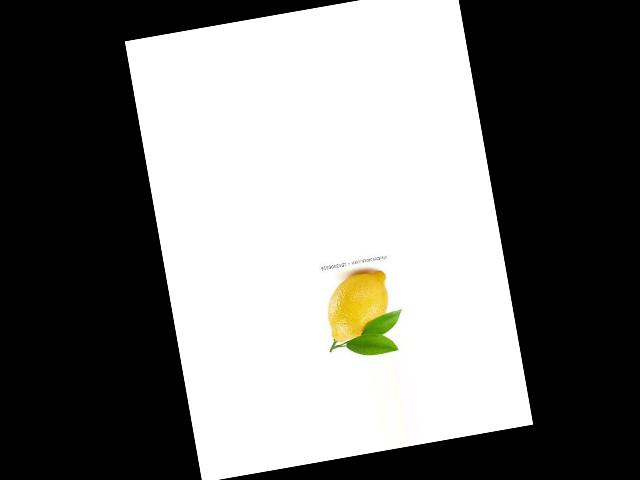lemon: (319, 267, 401, 347)
